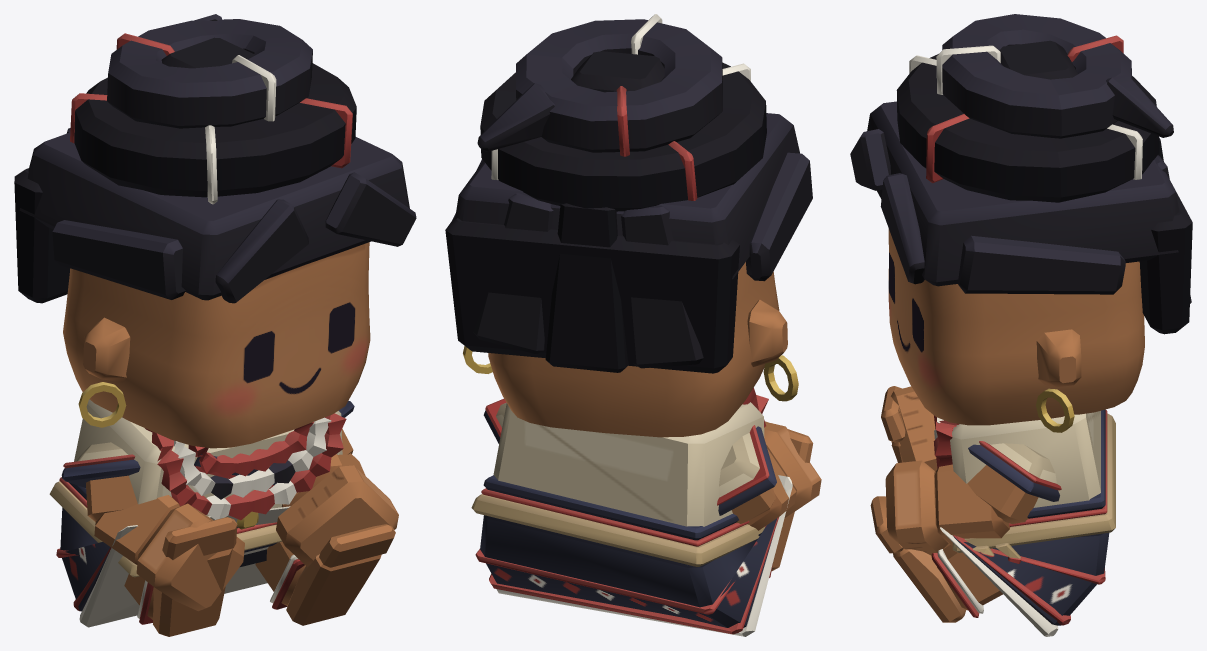
File: audience_v2_woman_sit.glb
The picture shows the model from 3 angles, left to right: view 1: azimuth 30°, elevation 25°; view 2: azimuth 150°, elevation 25°; view 3: azimuth 270°, elevation 25°; orthographic projection. The views are drawn at different scales.
Visible parts, largest first — view 1: audience_v2_woman_sit; view 2: audience_v2_woman_sit; view 3: audience_v2_woman_sit.
Boxes of the visible parts, x1,y1,x2,y2 form: audience_v2_woman_sit: [14, 14, 416, 636]; audience_v2_woman_sit: [445, 14, 821, 636]; audience_v2_woman_sit: [850, 14, 1192, 636].
Size of the model in its own units: 0.405 by 0.7 by 0.4019.
1 material, 1 textured.
